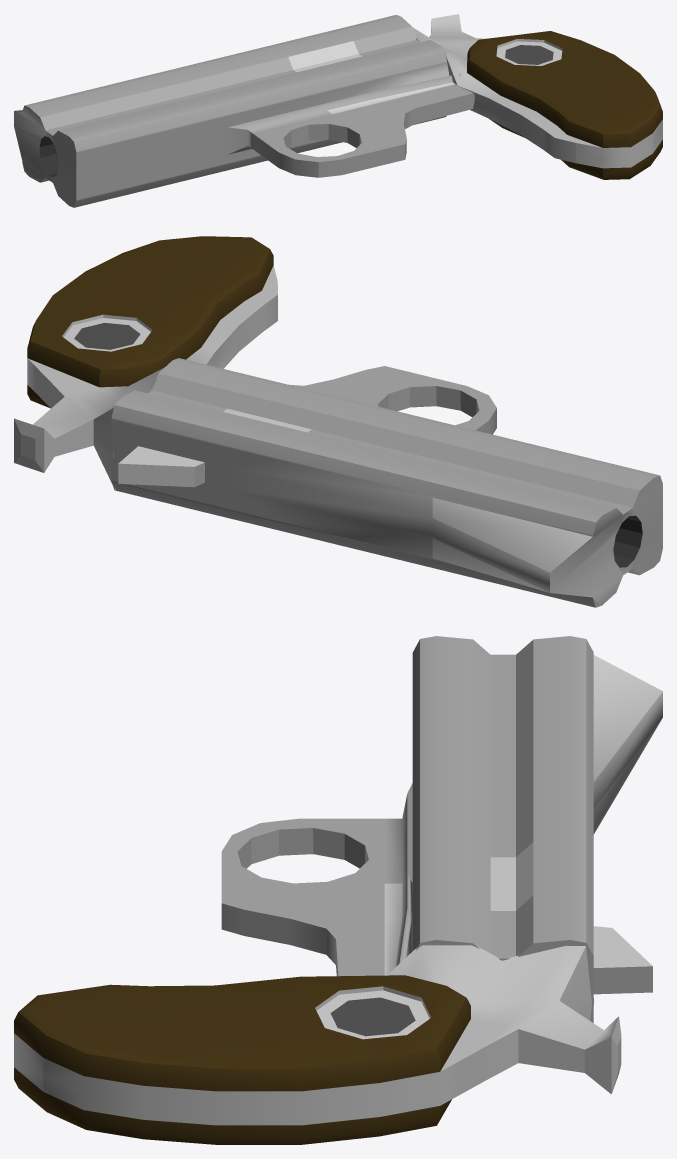
Rendered from Revolver.fbx.
3 views of the same model, one above another, from view 1: azimuth 30°, elevation 25°; view 2: azimuth 150°, elevation 25°; view 3: azimuth 270°, elevation 25° (orthographic). The views are drawn at different scales.
Visible parts, largest first — view 1: Lauf, griff; view 2: Lauf, griff; view 3: Lauf, griff.
Boxes of the visible parts, x1,y1,x2,y2 form: Lauf: [14, 15, 474, 207]; griff: [412, 14, 662, 179]; Lauf: [111, 358, 662, 607]; griff: [14, 236, 277, 490]; Lauf: [221, 636, 662, 1022]; griff: [14, 945, 621, 1144].
Bounding box in the file's own units: 1.19 × 0.1559 × 0.7893.
